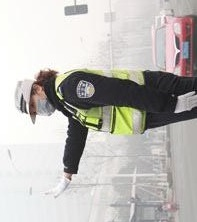person: (13, 65, 197, 200)
